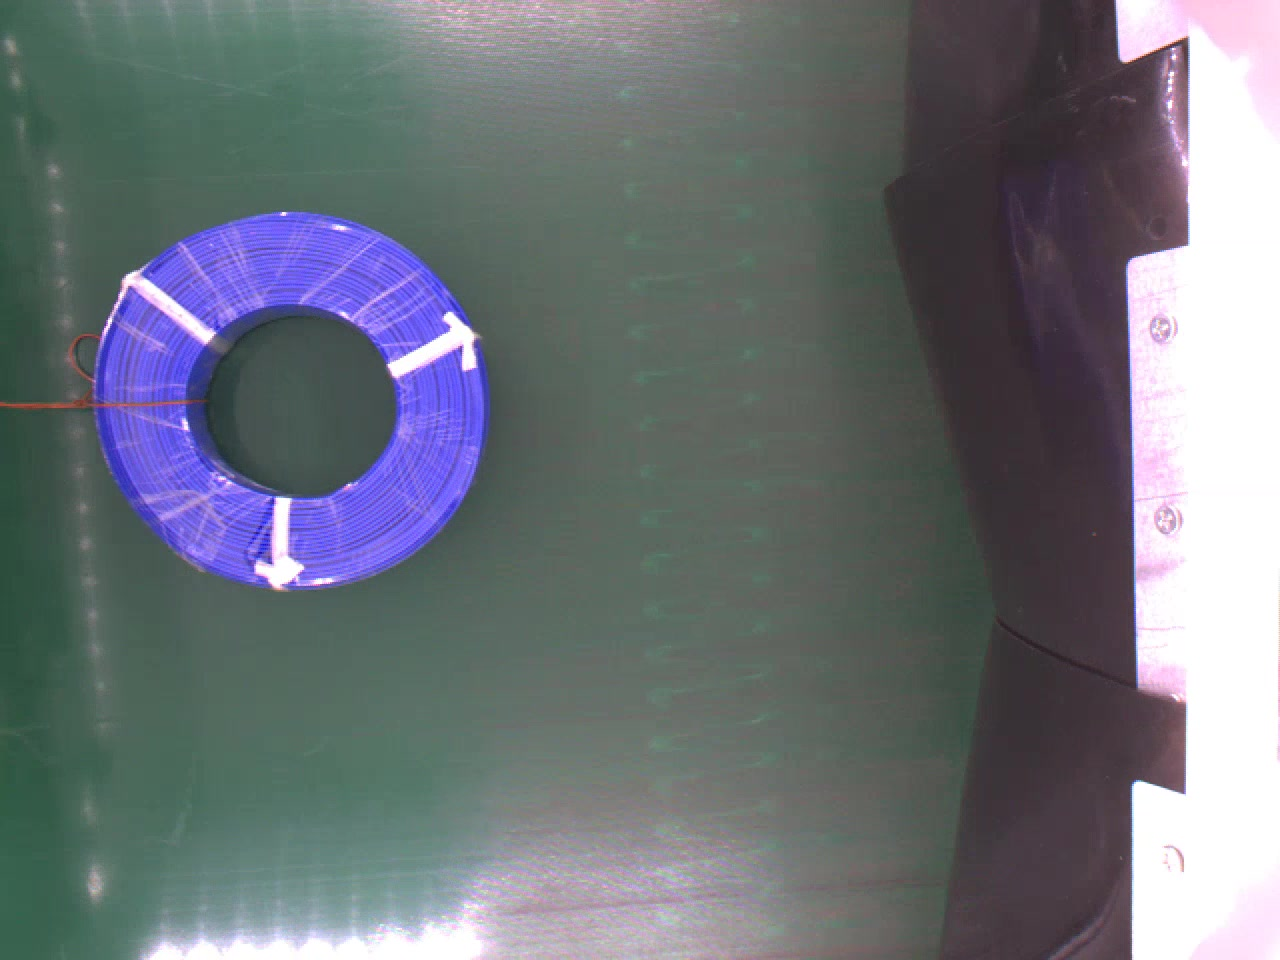blue: (93, 210, 484, 589)
